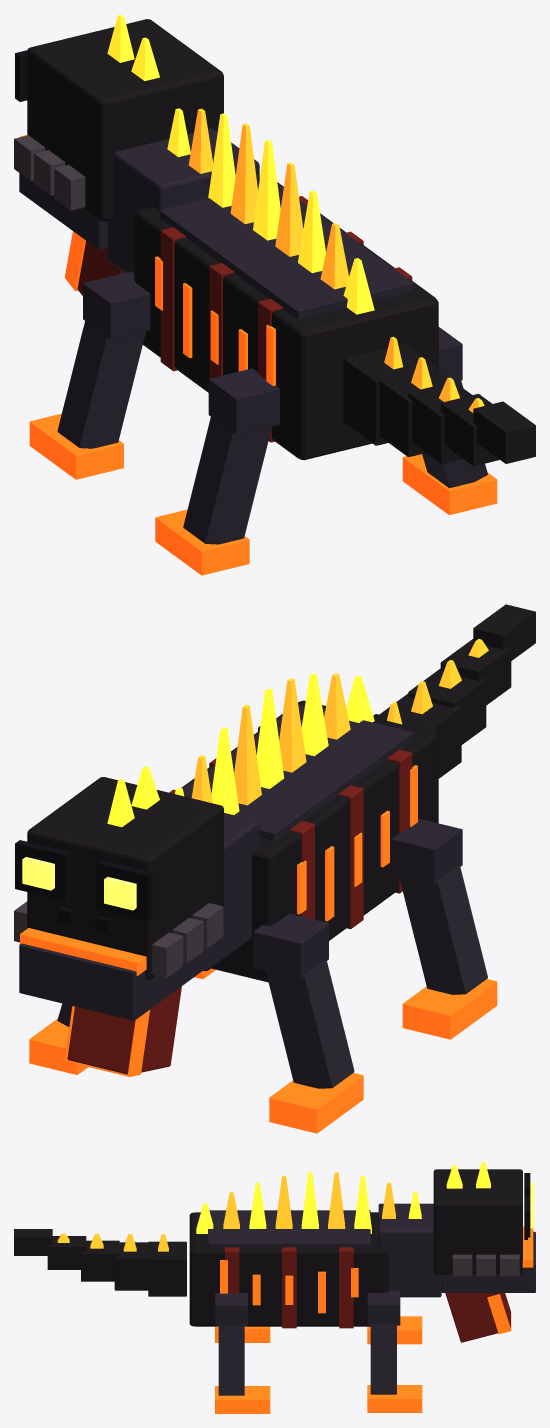
Rendered from lava-iguana.glb.
3 renders of one model, top to bottom at view 1: azimuth 30°, elevation 25°; view 2: azimuth 150°, elevation 25°; view 3: azimuth 270°, elevation 25°, orthographic. The views are drawn at different scales.
Visible parts, largest first — view 1: body, head, tail, leg.BR, leg.FR, leg.BL; view 2: head, body, leg.FR, leg.BR, tail, leg.FL; view 3: body, head, tail, leg.FL, leg.BL, leg.FR, leg.BR.
Boxes of the visible parts, x1,y1,x2,y2 form: body: [107, 108, 438, 460]; head: [14, 14, 223, 295]; tail: [343, 336, 535, 466]; leg.BR: [155, 368, 279, 575]; leg.FR: [29, 271, 150, 479]; leg.BL: [402, 327, 497, 514]; head: [14, 766, 223, 1076]; body: [169, 673, 438, 982]; leg.FR: [253, 913, 363, 1133]; leg.BR: [391, 818, 497, 1039]; tail: [373, 604, 535, 778]; leg.FL: [29, 1003, 87, 1074]; body: [189, 1172, 441, 1328]; head: [433, 1162, 535, 1342]; tail: [14, 1229, 186, 1296]; leg.FL: [367, 1290, 422, 1412]; leg.BL: [215, 1293, 270, 1413]; leg.FR: [367, 1316, 422, 1344]; leg.BR: [215, 1326, 270, 1342].
Size of the model in its own units: 0.8684 by 1 by 2.26.
